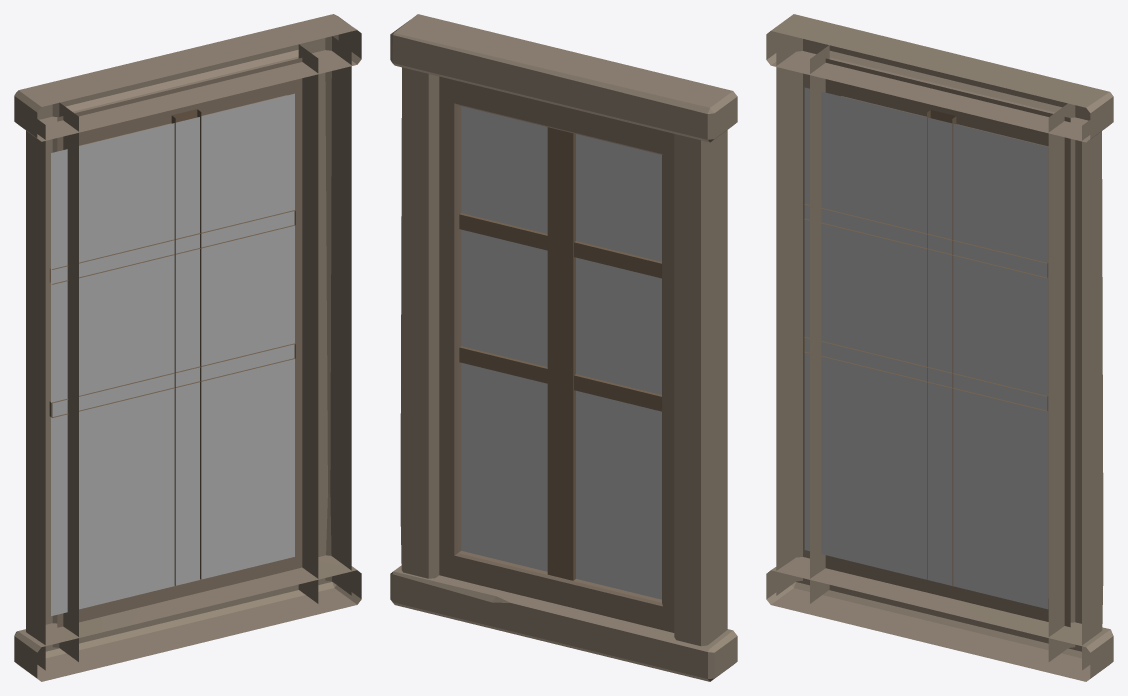
The model's file is BG_window_02.fbx.
The picture shows the model from 3 angles, left to right: view 1: azimuth 30°, elevation 25°; view 2: azimuth 150°, elevation 25°; view 3: azimuth 330°, elevation 25°; orthographic projection.
Visible parts, largest first — view 1: BG_window_02; view 2: BG_window_02; view 3: BG_window_02.
Part boxes in pixels (box(x1,y1,x2,y2)): BG_window_02: box(14, 14, 361, 681); BG_window_02: box(390, 14, 737, 681); BG_window_02: box(766, 14, 1113, 681).
Size of the model in its own units: 14.2 by 24.04 by 1.94.
